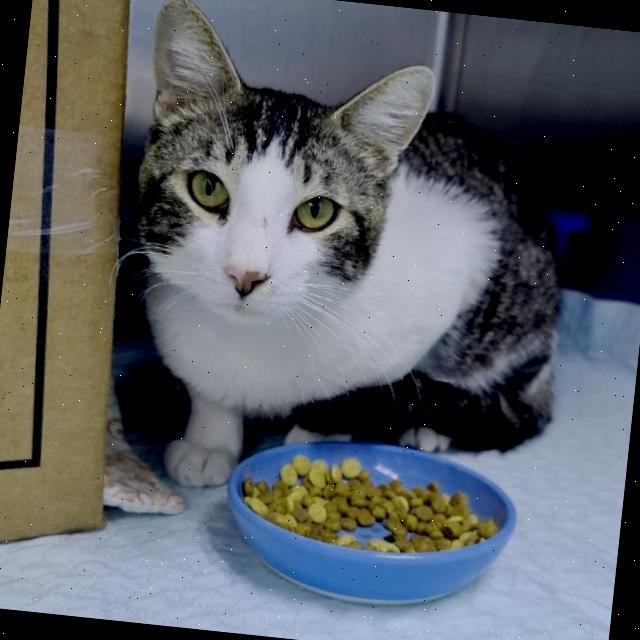domestic_short_hair_cat: (85, 0, 482, 361)
